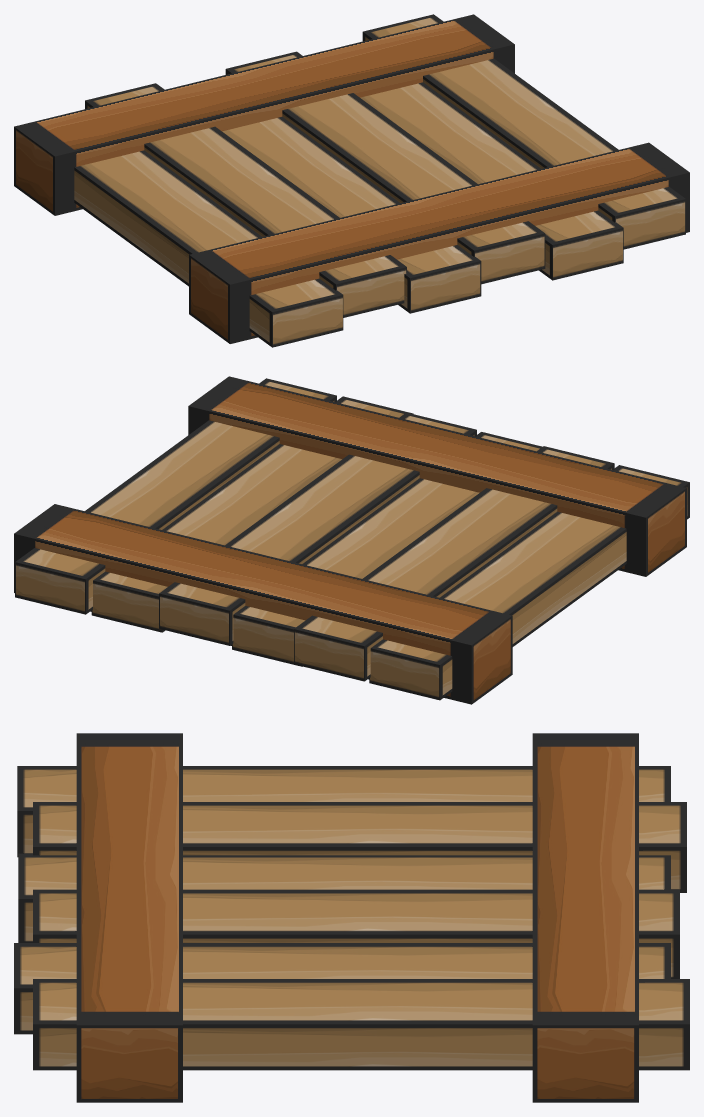
Rendered from Platform_SpawnPoint.fbx.
The picture shows the model from 3 angles, top to bottom: view 1: azimuth 30°, elevation 25°; view 2: azimuth 150°, elevation 25°; view 3: azimuth 270°, elevation 25°; orthographic projection. The views are drawn at different scales.
Visible parts, largest first — view 1: pasted__polySurface1; view 2: pasted__polySurface1; view 3: pasted__polySurface1.
Boxes of the visible parts, x1,y1,x2,y2 form: pasted__polySurface1: (14, 14, 689, 347); pasted__polySurface1: (14, 376, 689, 704); pasted__polySurface1: (14, 733, 689, 1102).
Size of the model in its own units: 10.96 by 1.35 by 10.72.
